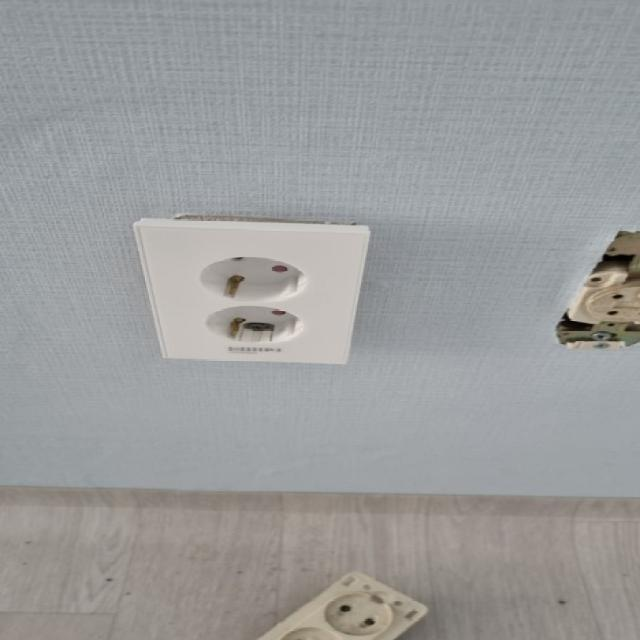typeb: (125, 220, 359, 379)
